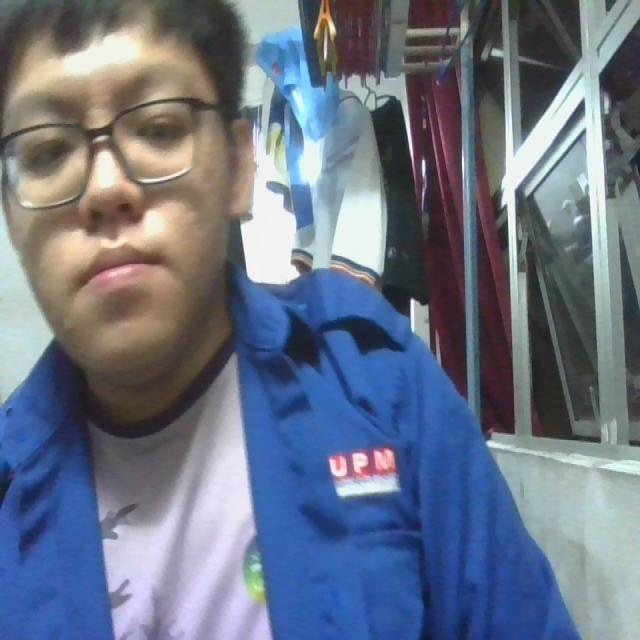person_with_labcoat: (0, 0, 592, 639)
